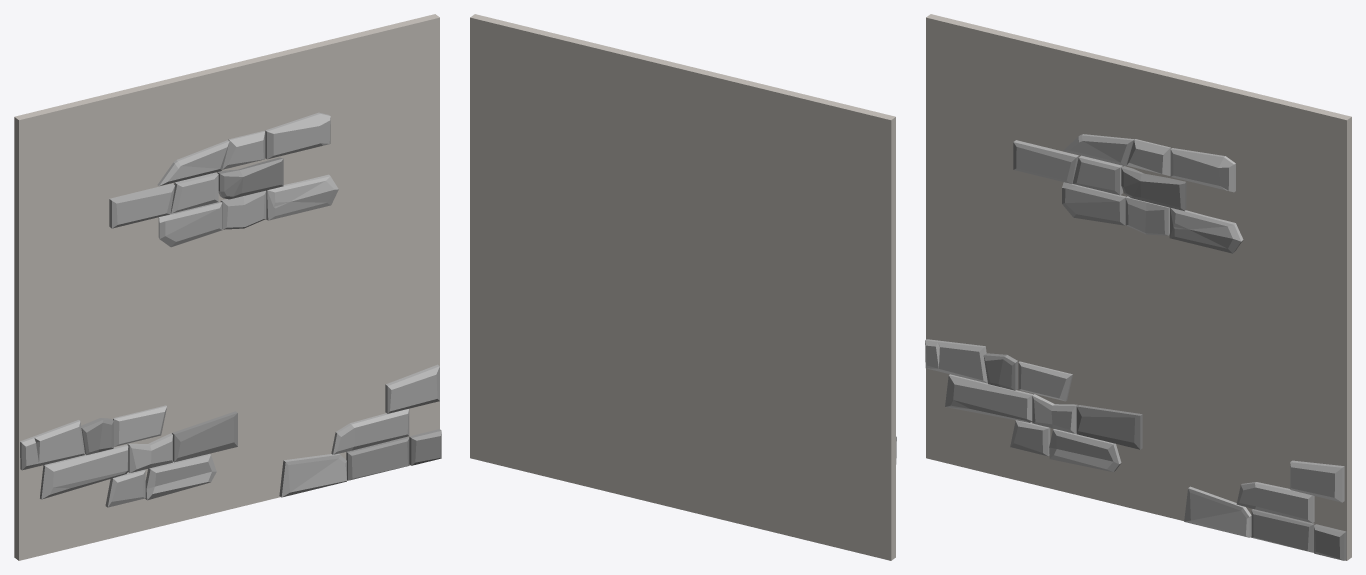
The model's file is _WALL_03_1.fbx.
3 renders of one model, left to right at view 1: azimuth 30°, elevation 25°; view 2: azimuth 150°, elevation 25°; view 3: azimuth 330°, elevation 25°, orthographic.
Visible parts, largest first — view 1: WALL_03_1; view 2: WALL_03_1; view 3: WALL_03_1.
Part boxes in pixels (x1,y1,x2,y2): WALL_03_1: (14, 14, 441, 560); WALL_03_1: (470, 14, 896, 560); WALL_03_1: (925, 14, 1351, 560).
Size of the model in its own units: 300 by 300 by 12.
